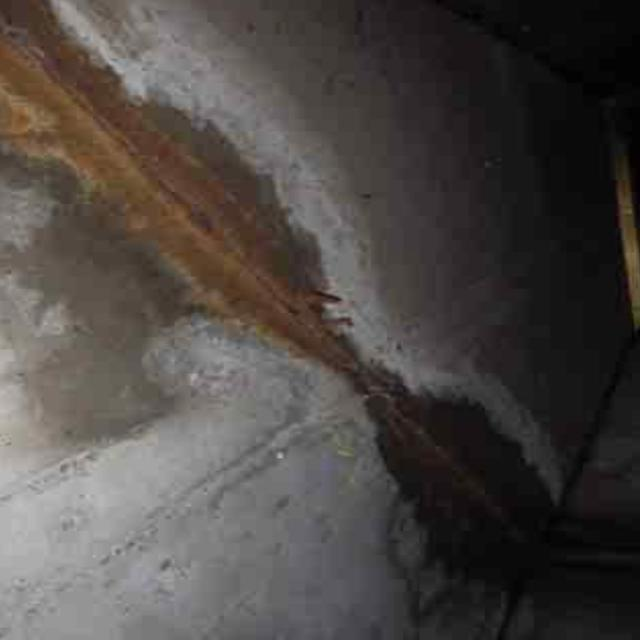corrosion: (24, 26, 324, 407), (380, 377, 559, 594)
